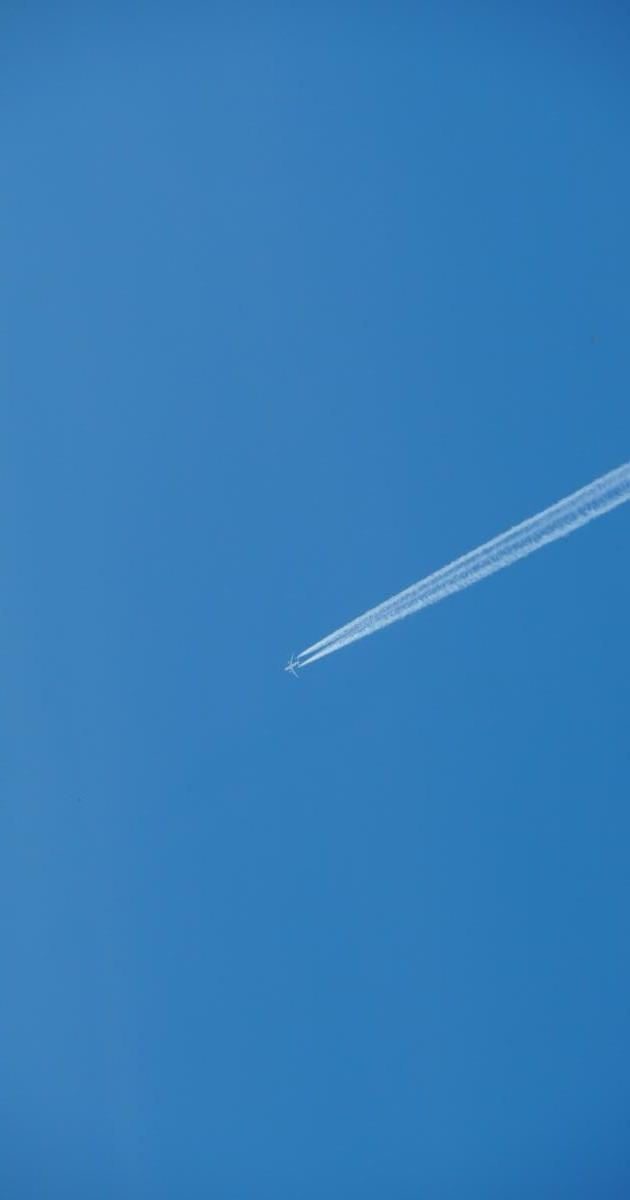Plane: (269, 426, 628, 724)
